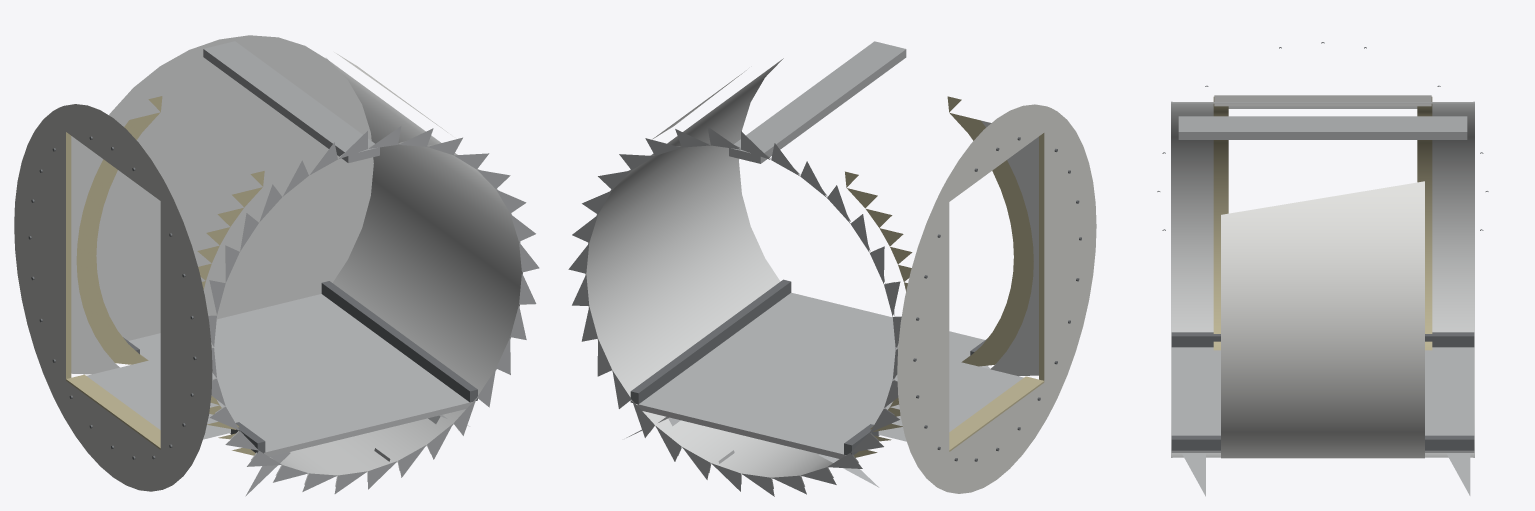
File: habSegJLb_steel_meshin.glb
The picture shows the model from 3 angles, left to right: view 1: azimuth 30°, elevation 25°; view 2: azimuth 150°, elevation 25°; view 3: azimuth 270°, elevation 25°; orthographic projection.
Visible parts, largest first — view 1: habSegJLb_steel_meshin; view 2: habSegJLb_steel_meshin; view 3: habSegJLb_steel_meshin.
Part boxes in pixels (x1,y1,x2,y2): habSegJLb_steel_meshin: [14, 35, 539, 496]; habSegJLb_steel_meshin: [568, 41, 1096, 496]; habSegJLb_steel_meshin: [1157, 42, 1488, 496].
Bounding box in the file's own units: 2.66 × 2.6 × 2.6.
